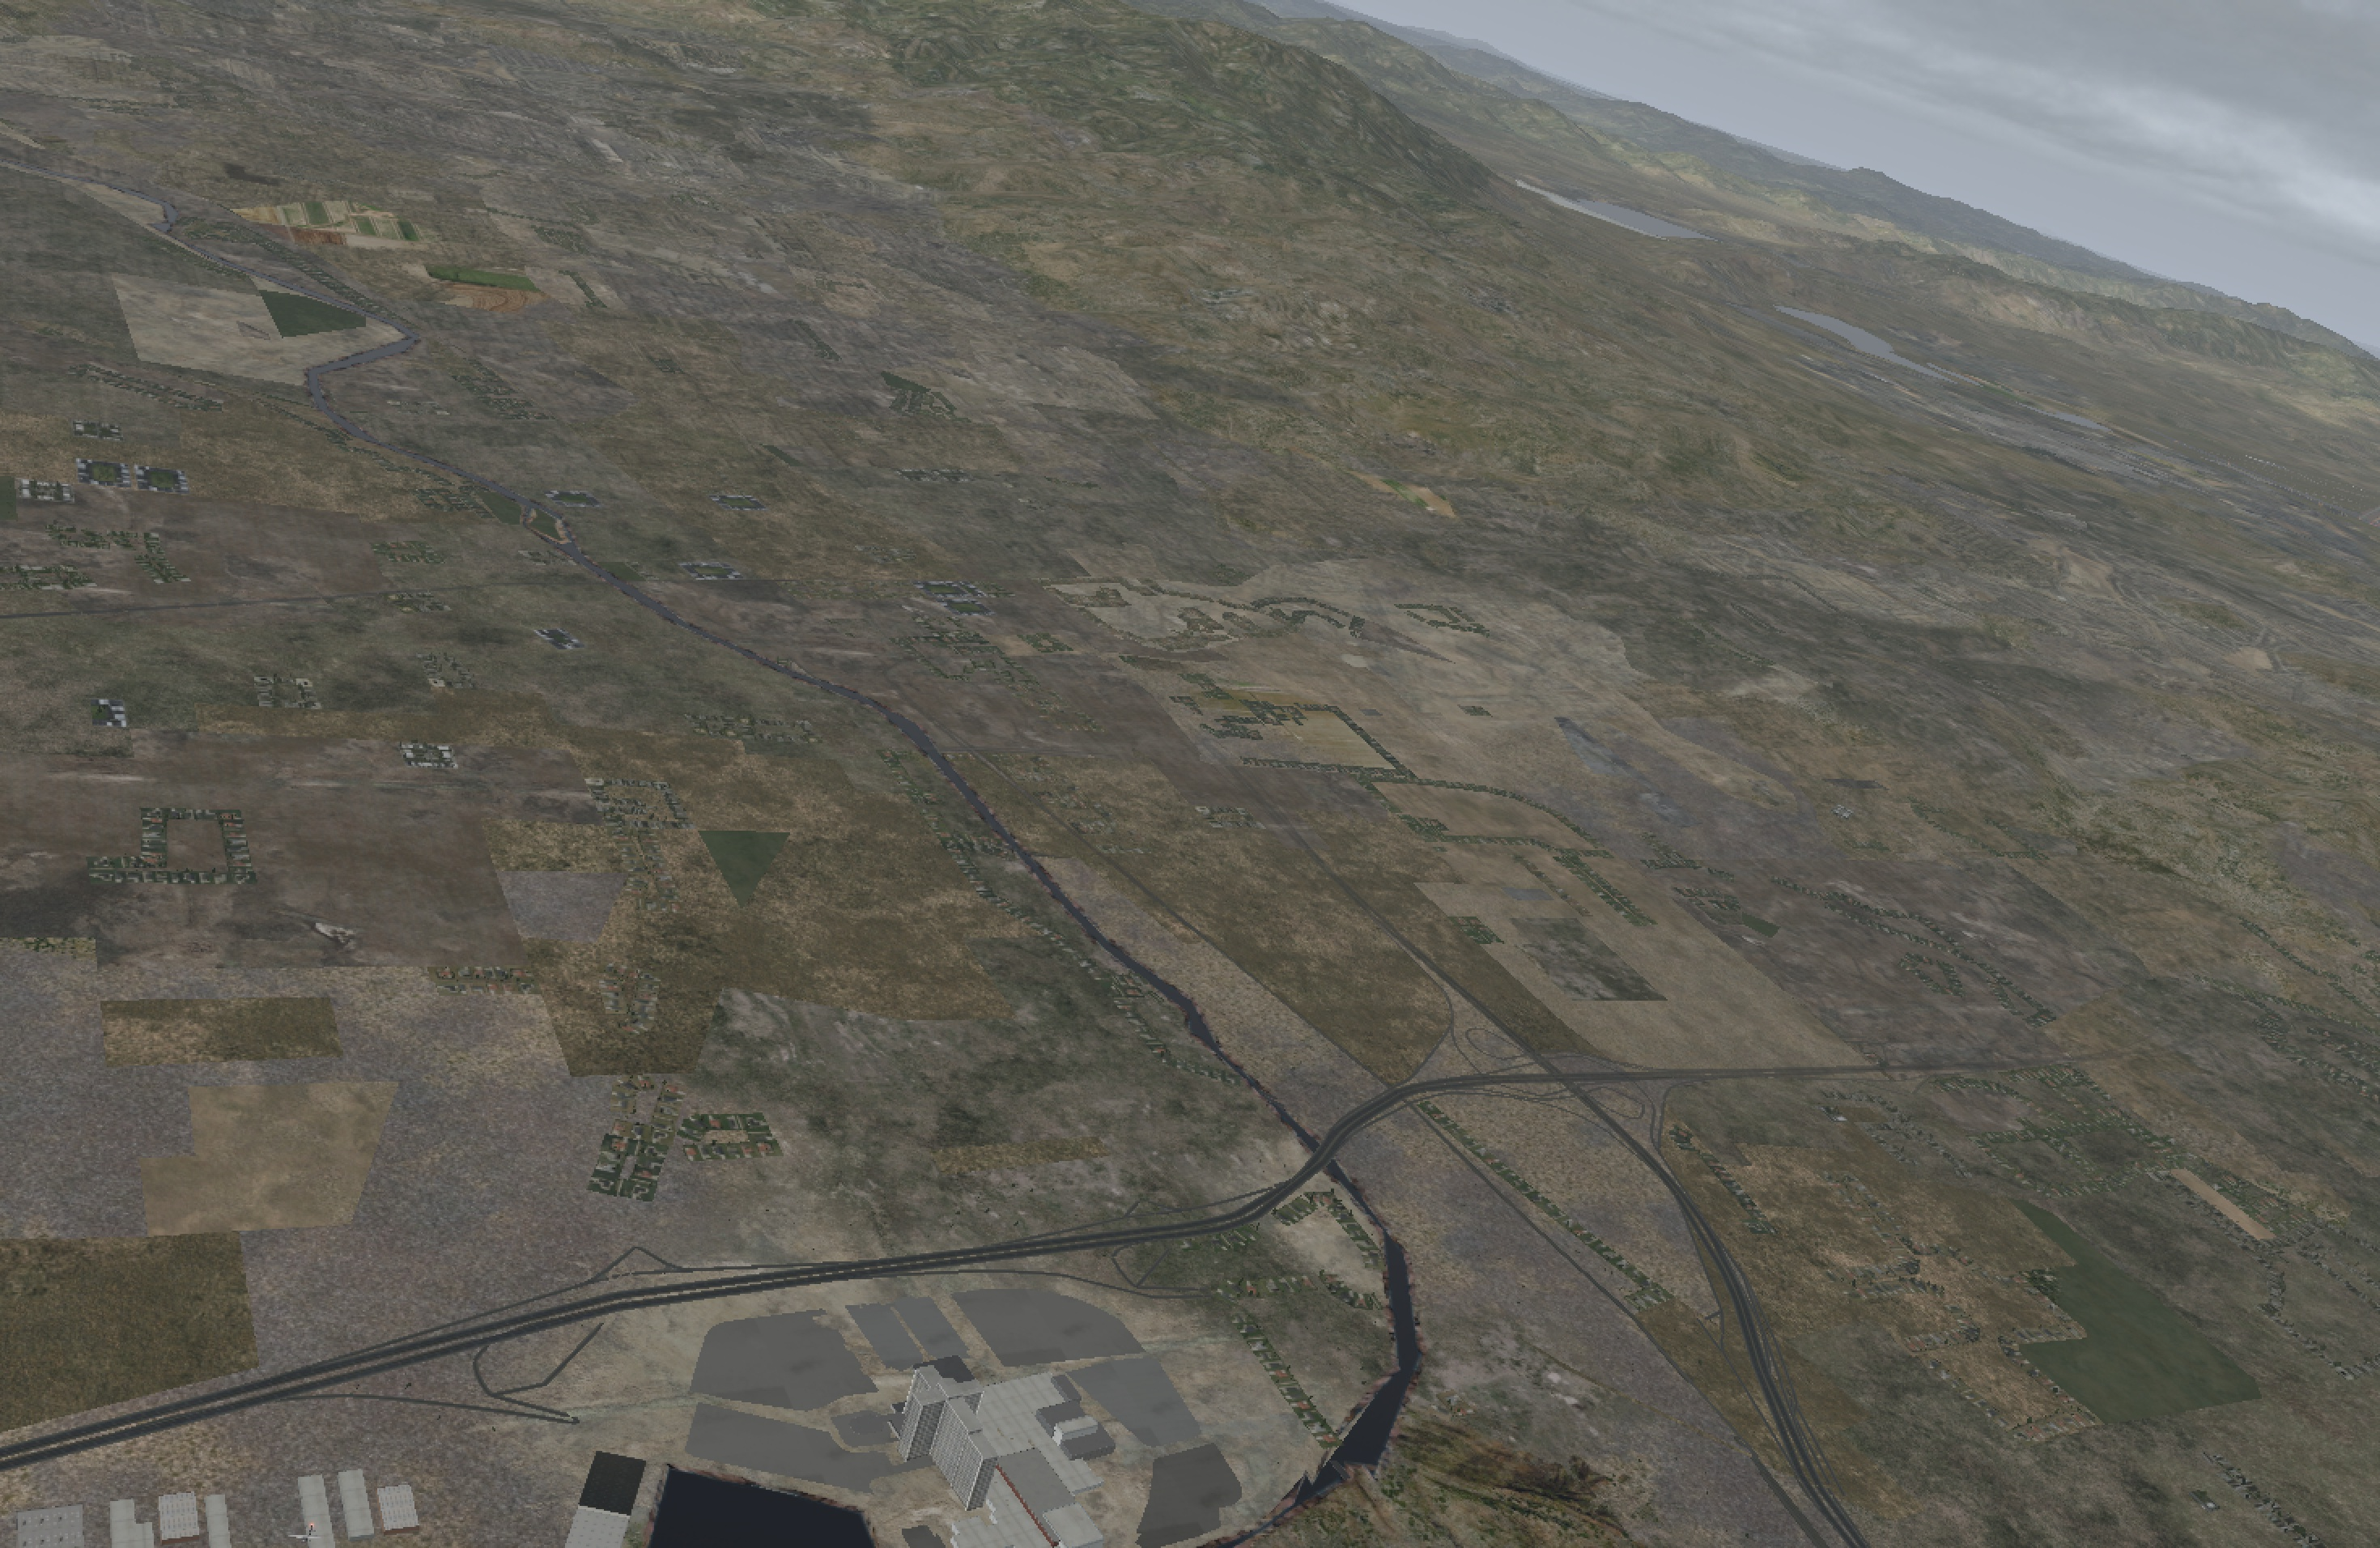aircraft: (295, 1534, 316, 1543)
